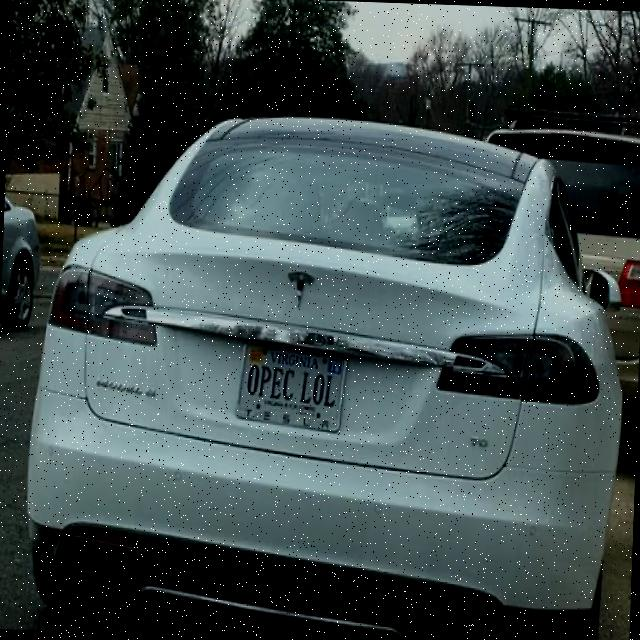Autre: (236, 344, 351, 427)
